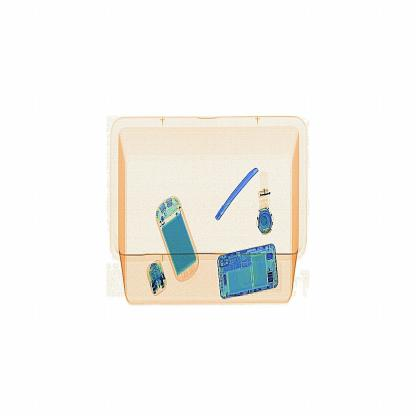pliers: (211, 160, 269, 223)
